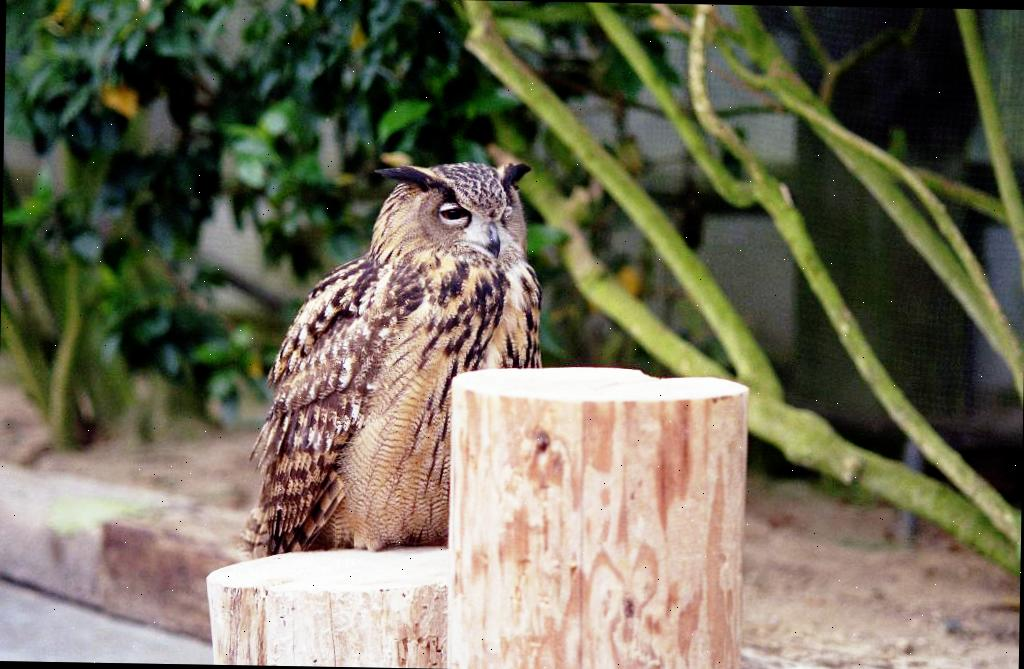Owl: (233, 155, 549, 560)
